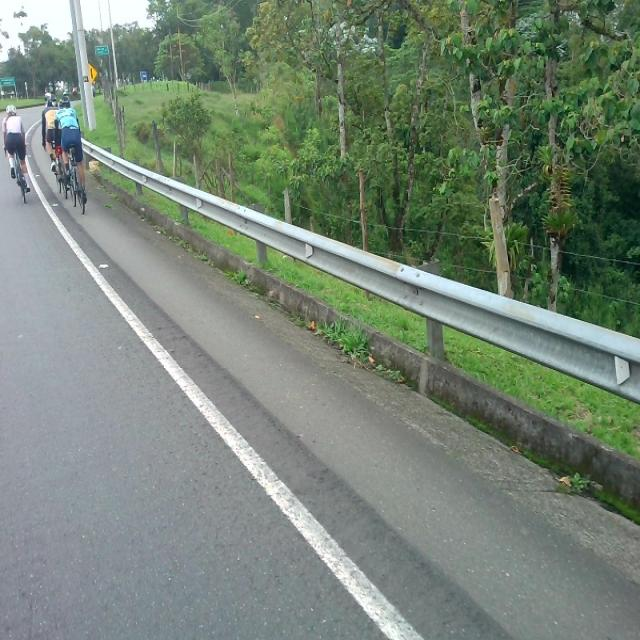DITCH: (1, 59, 638, 638), (5, 109, 638, 638)
